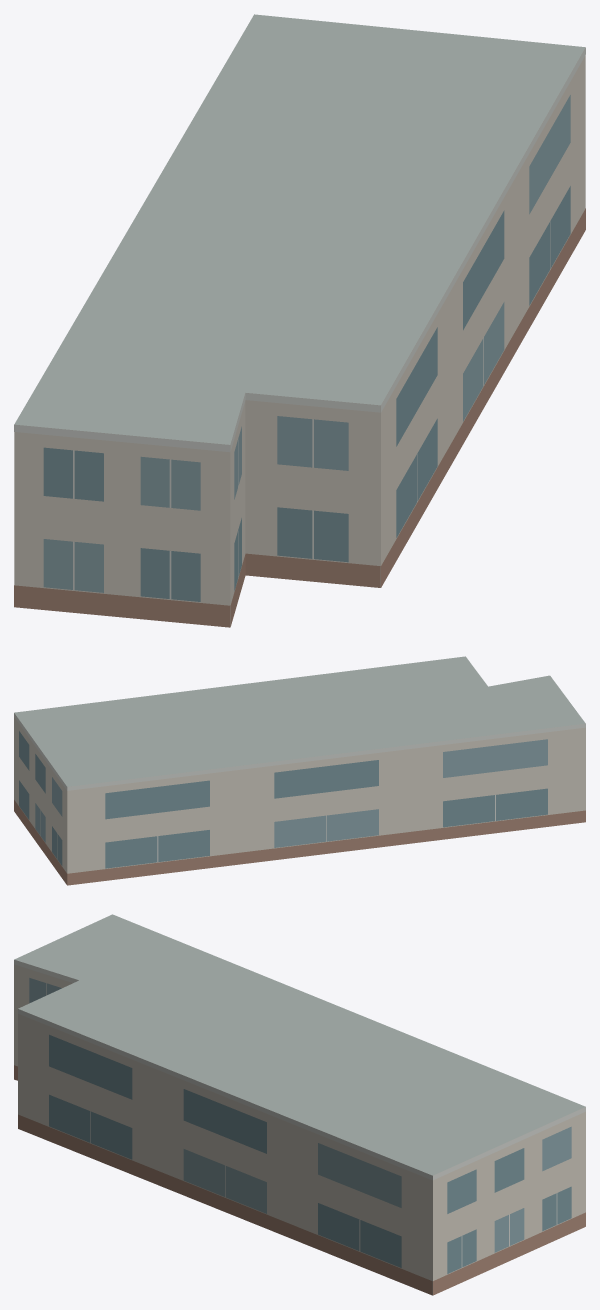
File: survey-upis-33042082.glb
3 renders of one model, top to bottom at view 1: azimuth 30°, elevation 25°; view 2: azimuth 150°, elevation 25°; view 3: azimuth 270°, elevation 25°, orthographic. The views are drawn at different scales.
Visible parts, largest first — view 1: survey-upis-33042082.tmp; view 2: survey-upis-33042082.tmp; view 3: survey-upis-33042082.tmp.
Part boxes in pixels (x1,y1,x2,y2): survey-upis-33042082.tmp: (14, 14, 585, 627); survey-upis-33042082.tmp: (14, 656, 585, 885); survey-upis-33042082.tmp: (14, 914, 585, 1295).
Size of the model in its own units: 28.52 by 6.1 by 26.36.
